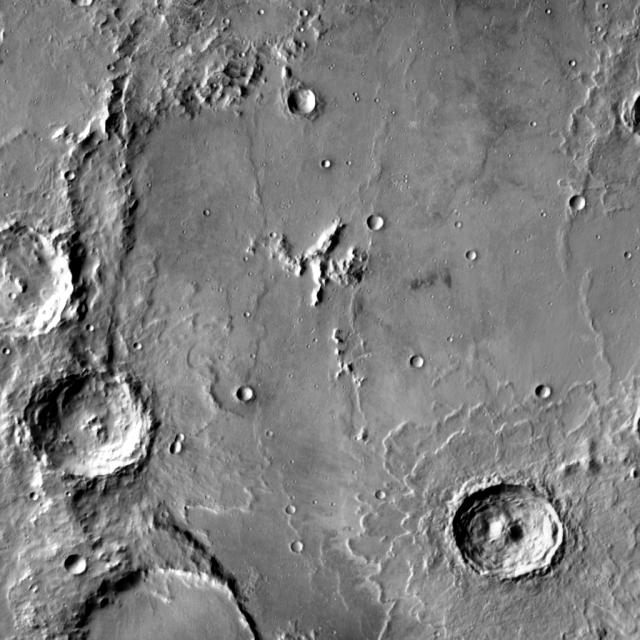crater: (42, 0, 640, 640), (31, 374, 152, 484), (459, 487, 564, 582), (0, 231, 79, 342), (289, 91, 320, 119), (67, 558, 89, 578), (572, 198, 590, 214), (241, 390, 258, 405), (371, 219, 387, 234), (539, 387, 555, 401), (414, 358, 427, 370), (293, 546, 306, 557), (173, 445, 185, 456), (468, 253, 481, 263), (378, 494, 391, 504), (69, 174, 79, 183), (289, 510, 299, 519), (325, 164, 335, 172), (136, 346, 146, 354), (178, 437, 188, 445), (304, 13, 312, 21), (34, 496, 43, 503), (219, 14, 227, 21), (7, 350, 14, 358), (627, 255, 635, 262), (82, 320, 89, 328), (34, 587, 42, 594), (38, 187, 46, 194), (198, 205, 206, 212), (564, 54, 571, 61), (102, 60, 110, 66), (240, 308, 247, 314)
